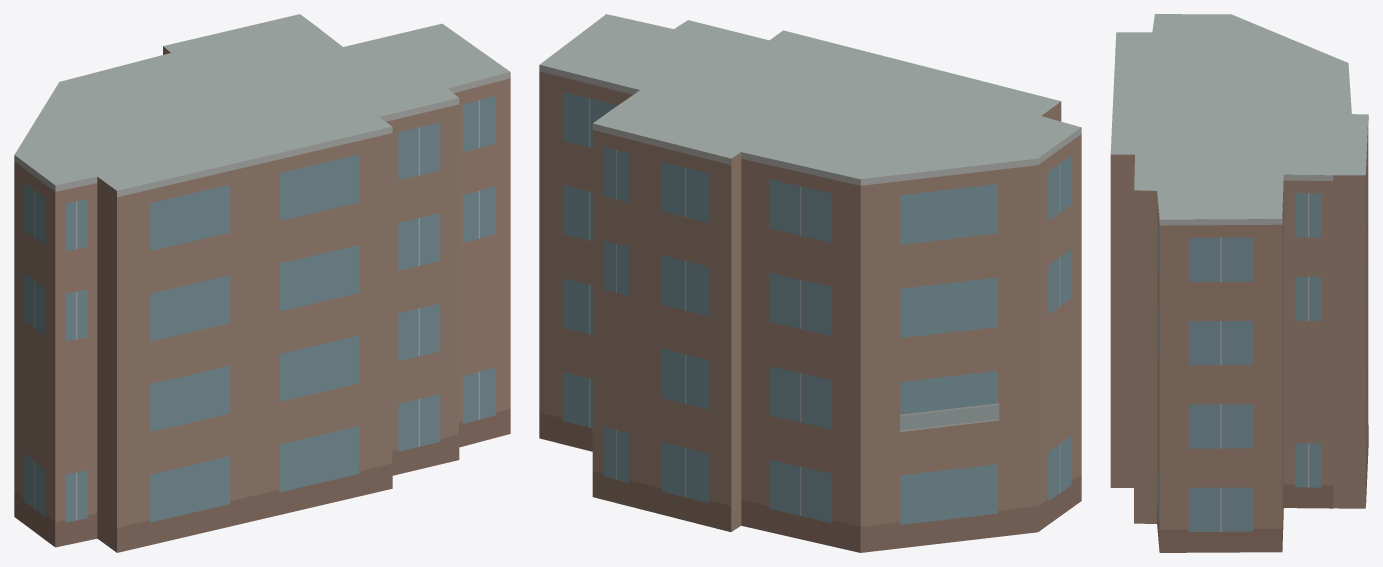
The model's file is survey-upis-32913456.glb.
3 renders of one model, left to right at view 1: azimuth 30°, elevation 25°; view 2: azimuth 150°, elevation 25°; view 3: azimuth 270°, elevation 25°, orthographic. The views are drawn at different scales.
Parts seen in each view (by area): view 1: survey-upis-32913456.tmp; view 2: survey-upis-32913456.tmp; view 3: survey-upis-32913456.tmp.
Part boxes in pixels (left/top/right/bottom): survey-upis-32913456.tmp: left=14, top=14, right=510, bottom=552; survey-upis-32913456.tmp: left=539, top=14, right=1081, bottom=552; survey-upis-32913456.tmp: left=1110, top=14, right=1368, bottom=552.
Bounding box in the file's own units: 18.41 × 13.9 × 9.75.
